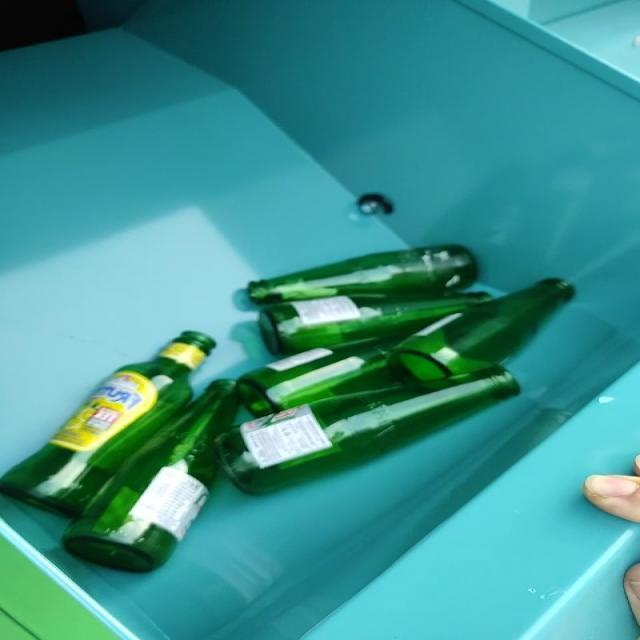Glass: (0, 245, 572, 572)
